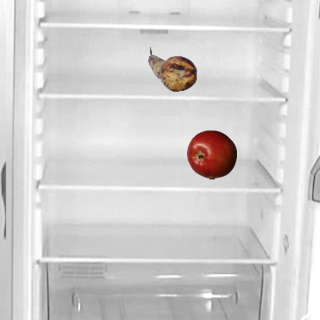Apple Braeburn: (186, 129, 236, 179)
Pear Abate: (147, 44, 197, 94)
